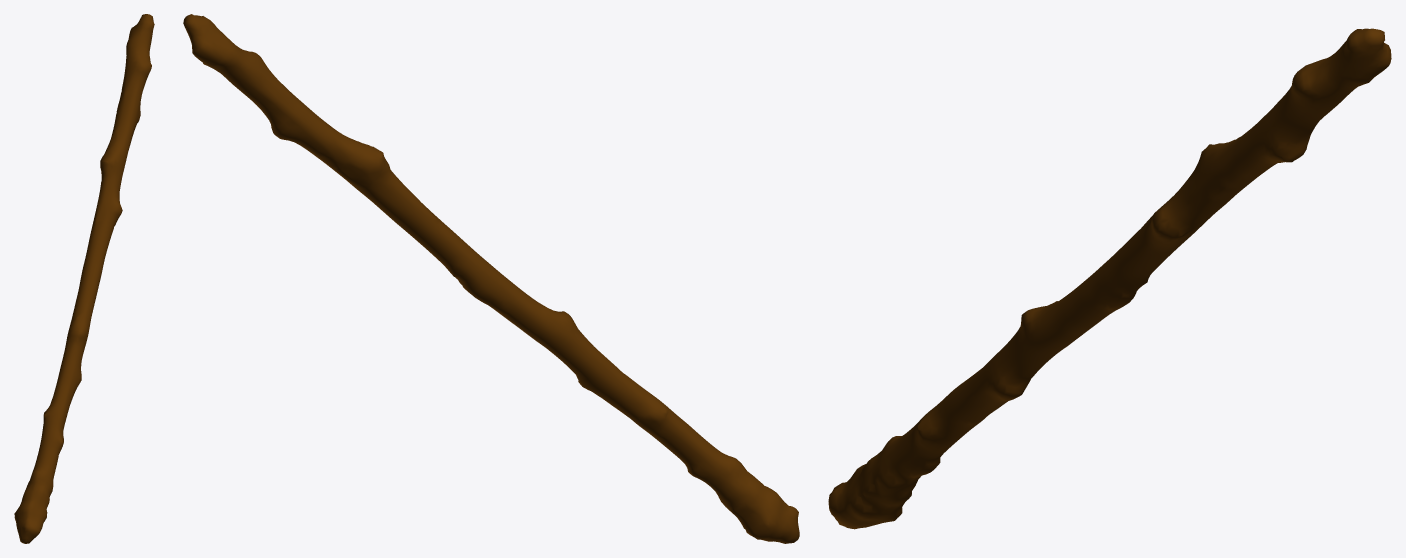
The model's file is left_arm.glb.
3 views of the same model, side by side, from view 1: azimuth 30°, elevation 25°; view 2: azimuth 150°, elevation 25°; view 3: azimuth 270°, elevation 25° (orthographic). The views are drawn at different scales.
Parts seen in each view (by area): view 1: Object_6; view 2: Object_6; view 3: Object_6.
Part boxes in pixels (<box>): Object_6: <box>14,14,154,543</box>; Object_6: <box>183,14,799,543</box>; Object_6: <box>828,28,1391,529</box>.
Bounding box in the file's own units: 0.4559 × 0.6176 × 0.4236.
